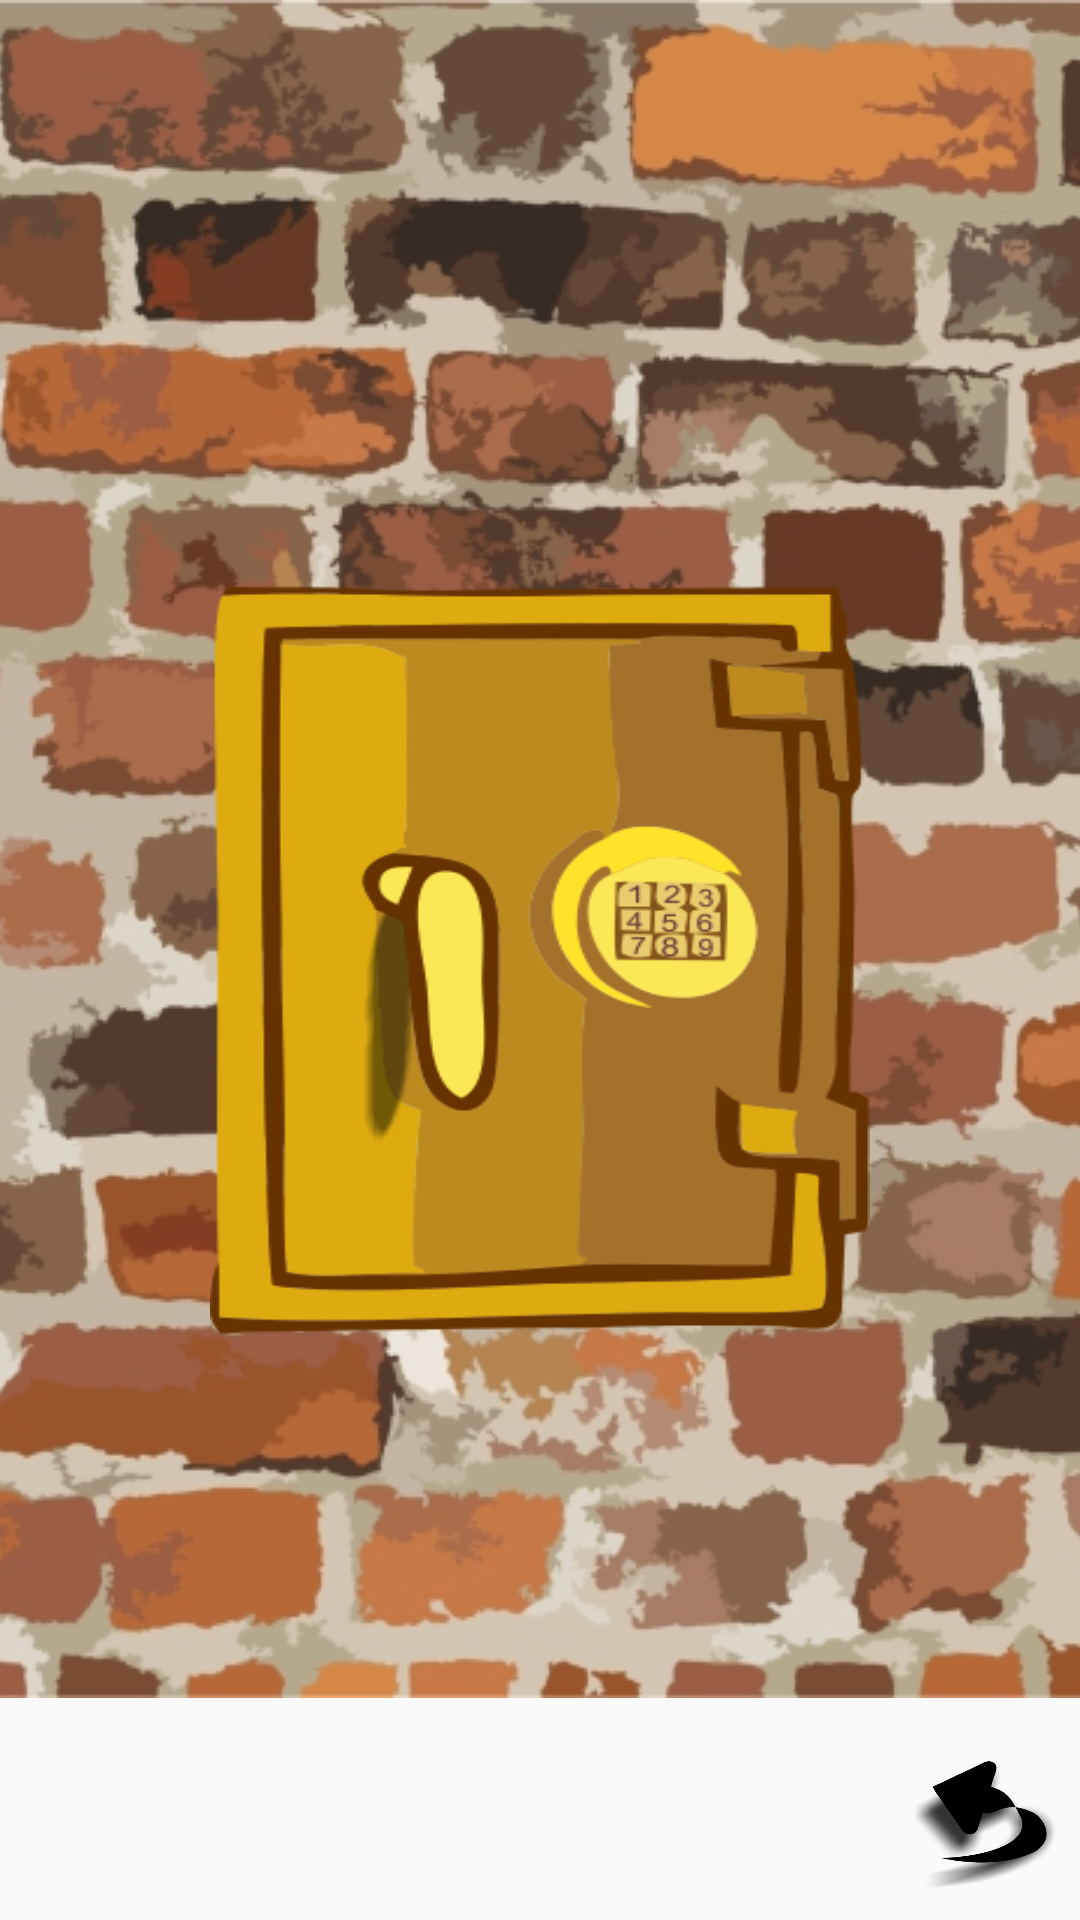

Icons on this 1080 × 1920 Android screen, each with its box as (x1, y1, x2, y2):
back: (918, 1761, 1053, 1886)
